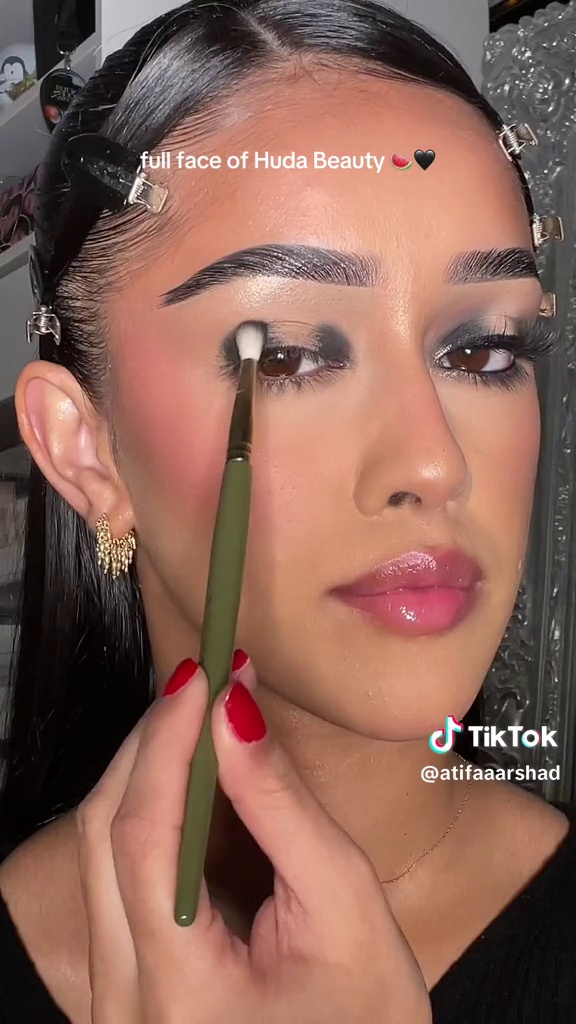train' :'yolo_data/train/images',: (145, 321, 262, 959)
